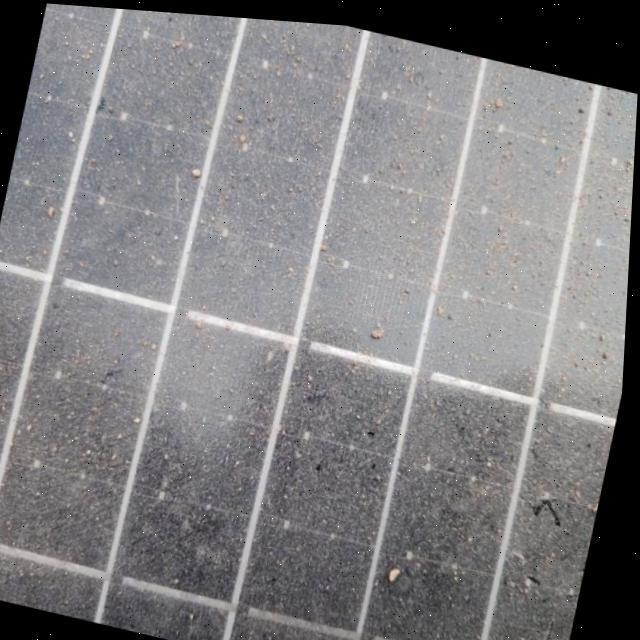Surface Contaminant: (0, 3, 638, 640)
